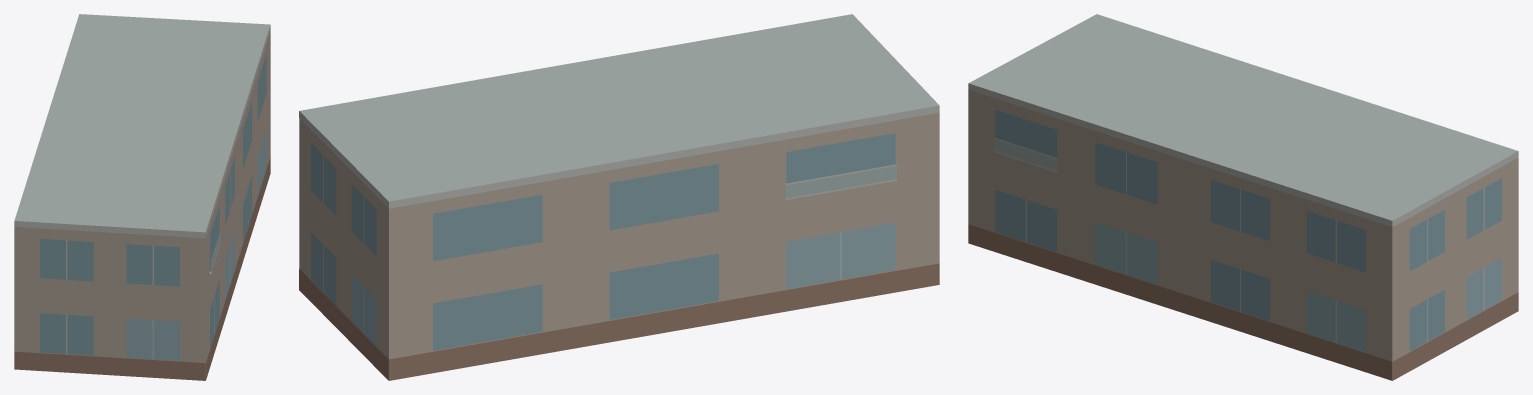
File: survey-upis-32707051.glb
3 renders of one model, left to right at view 1: azimuth 30°, elevation 25°; view 2: azimuth 150°, elevation 25°; view 3: azimuth 270°, elevation 25°, orthographic. The views are drawn at different scales.
Visible parts, largest first — view 1: survey-upis-32707051.tmp; view 2: survey-upis-32707051.tmp; view 3: survey-upis-32707051.tmp.
Boxes of the visible parts, x1=… form: survey-upis-32707051.tmp: x1=14, y1=14, x2=270, y2=380; survey-upis-32707051.tmp: x1=299, y1=14, x2=939, y2=380; survey-upis-32707051.tmp: x1=968, y1=14, x2=1518, y2=380.
Size of the model in its own units: 16.92 by 6.1 by 19.02.
